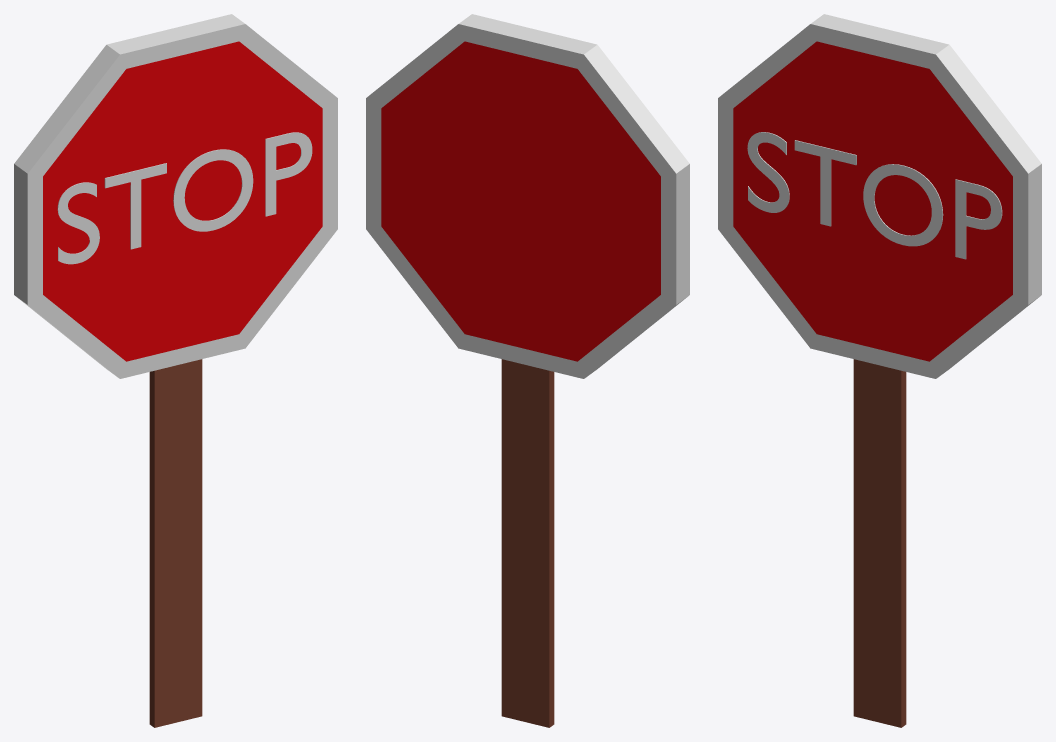
Rendered from StopSign.fbx.
The picture shows the model from 3 angles, left to right: view 1: azimuth 30°, elevation 25°; view 2: azimuth 150°, elevation 25°; view 3: azimuth 330°, elevation 25°; orthographic projection.
Visible parts, largest first — view 1: StopSign; view 2: StopSign; view 3: StopSign.
Part boxes in pixels (x1,y1,x2,y2): StopSign: (14,14,337,727); StopSign: (366,14,689,727); StopSign: (718,14,1041,727).
Size of the model in its own units: 222 by 469 by 17.46.
